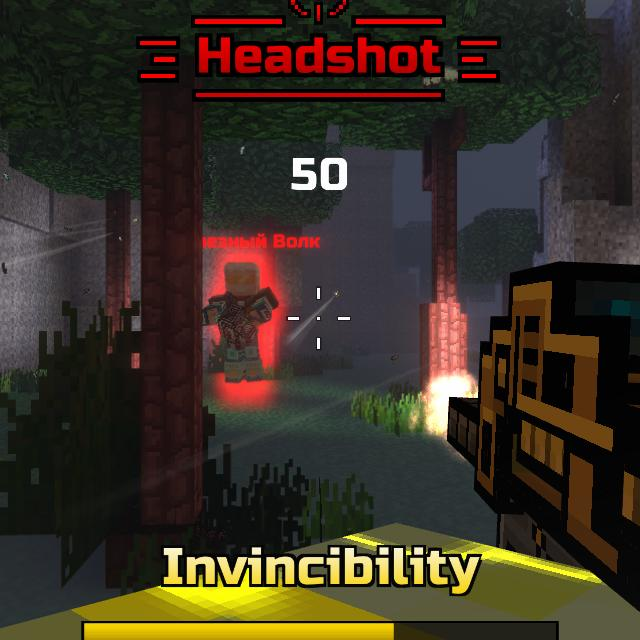Enemy: (203, 264, 279, 385)
